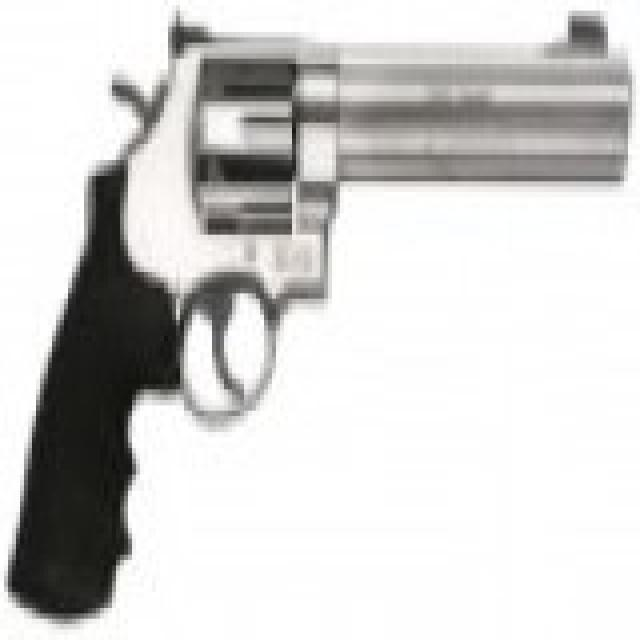gun: (12, 16, 616, 603)
